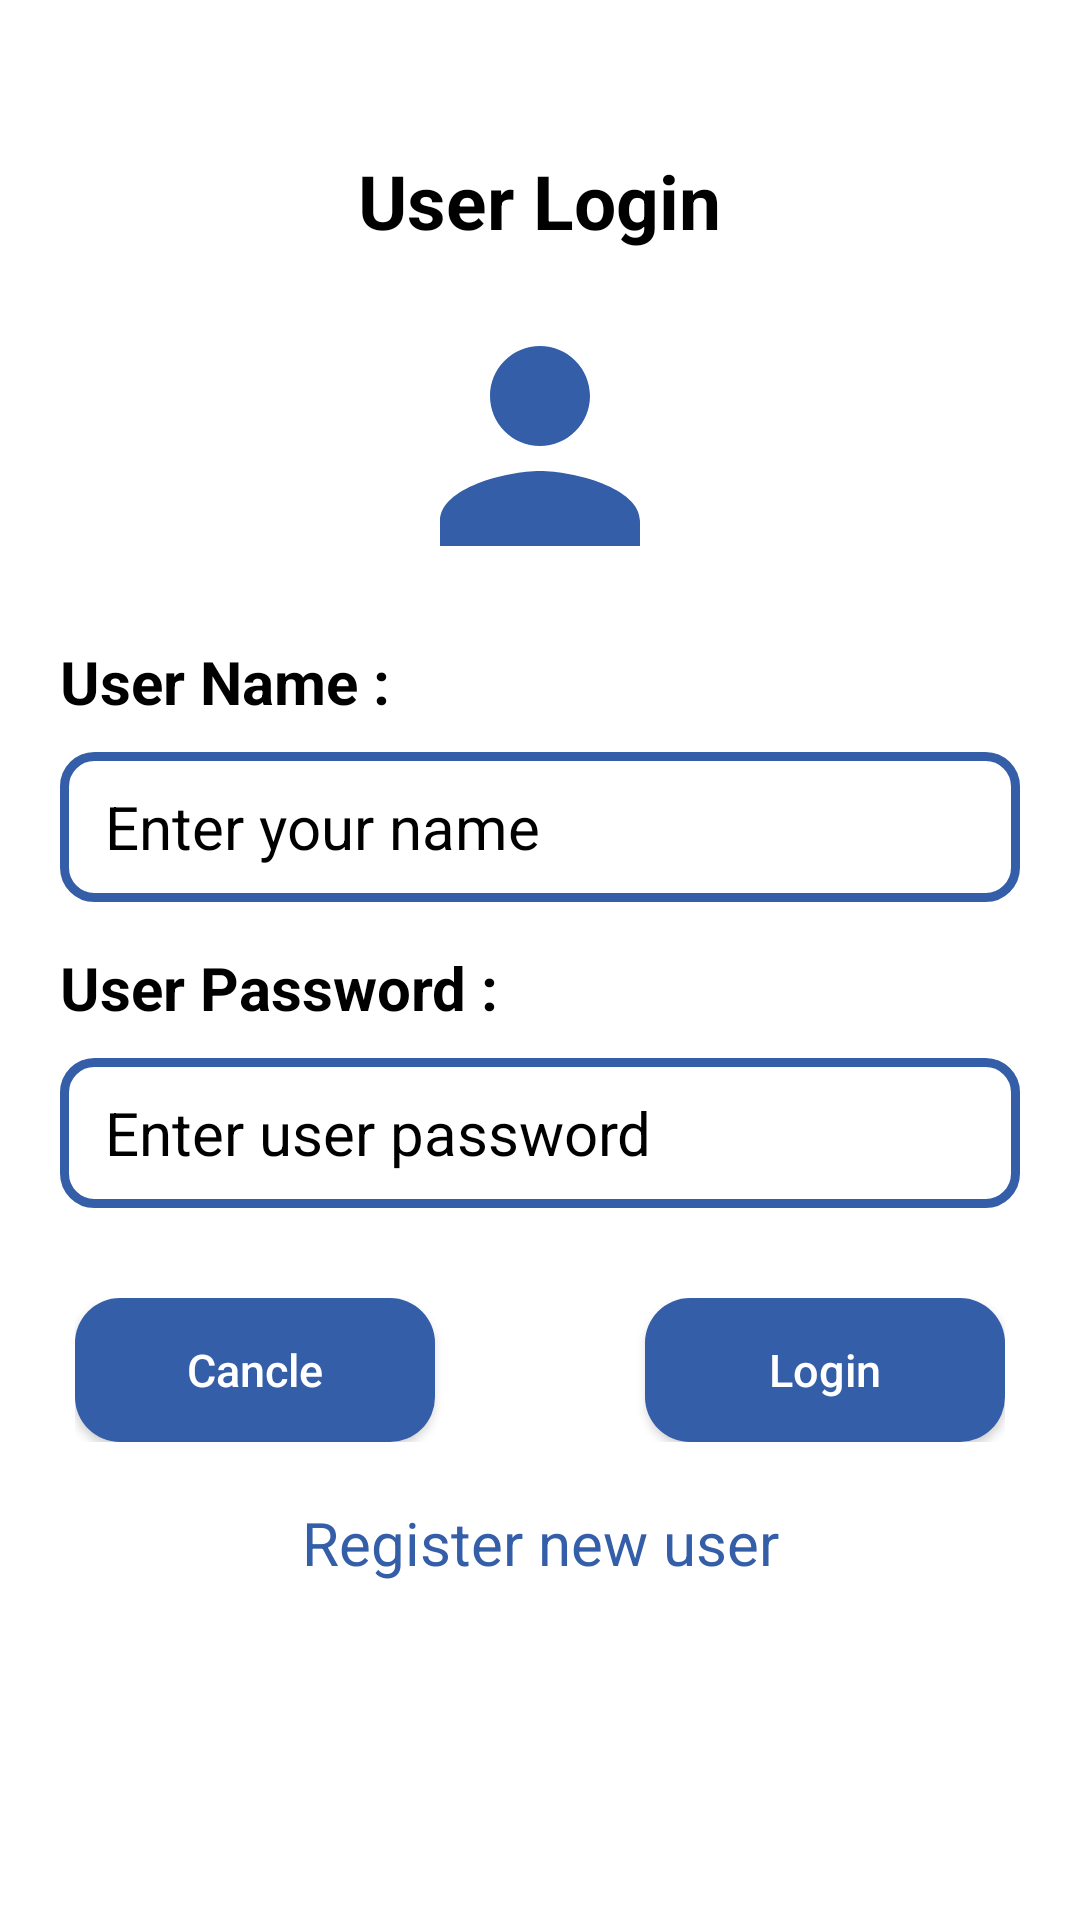

Icon bounding boxes for this 1080*1920 phone screenshot, format bbox(x1, y1, x2, y2):
person: bbox(440, 346, 640, 546)
